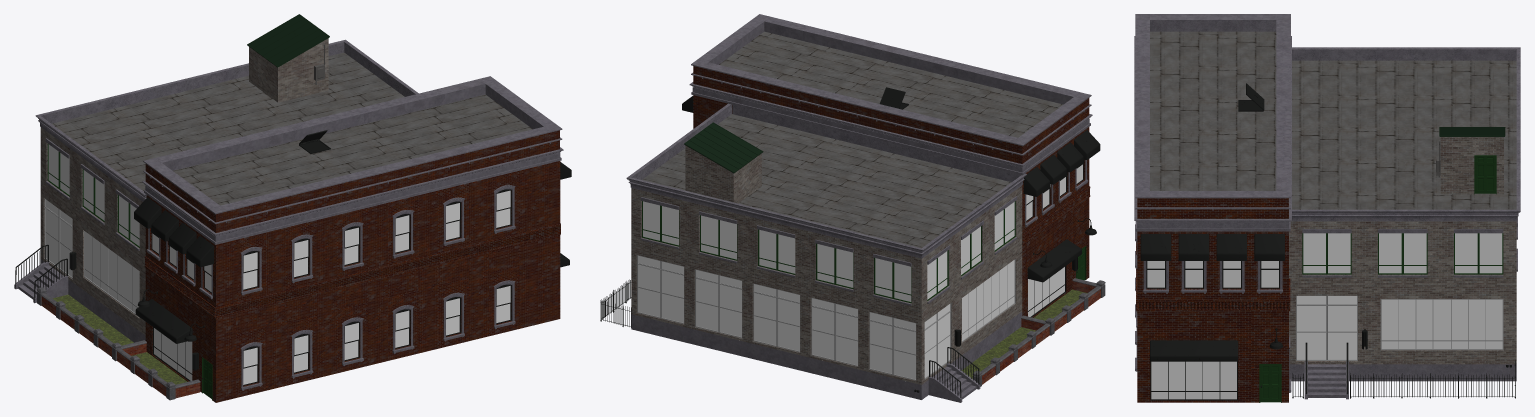
Rendered from Building_23.fbx.
3 views of the same model, side by side, from view 1: azimuth 30°, elevation 25°; view 2: azimuth 150°, elevation 25°; view 3: azimuth 270°, elevation 25° (orthographic). The views are drawn at different scales.
Parts seen in each view (by area): view 1: Building_23_LOD0; view 2: Building_23_LOD0; view 3: Building_23_LOD0.
Part boxes in pixels (bbox=[...]): Building_23_LOD0: bbox=[14, 14, 571, 402]; Building_23_LOD0: bbox=[600, 14, 1105, 402]; Building_23_LOD0: bbox=[1134, 14, 1520, 402].
Size of what is drawn, in the model's own units: 2390 by 1170 by 1862.
